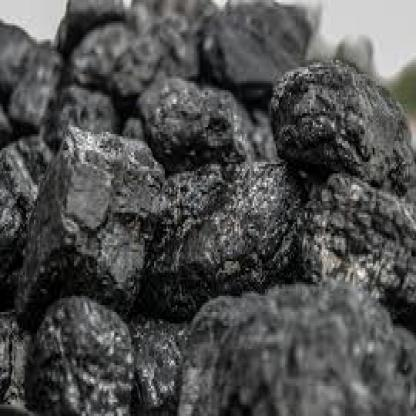Sedimentary_coal: (186, 286, 414, 414), (15, 122, 154, 322), (266, 49, 414, 194), (156, 155, 300, 300), (304, 166, 414, 326), (26, 291, 136, 414), (131, 72, 253, 173), (199, 0, 316, 90)
